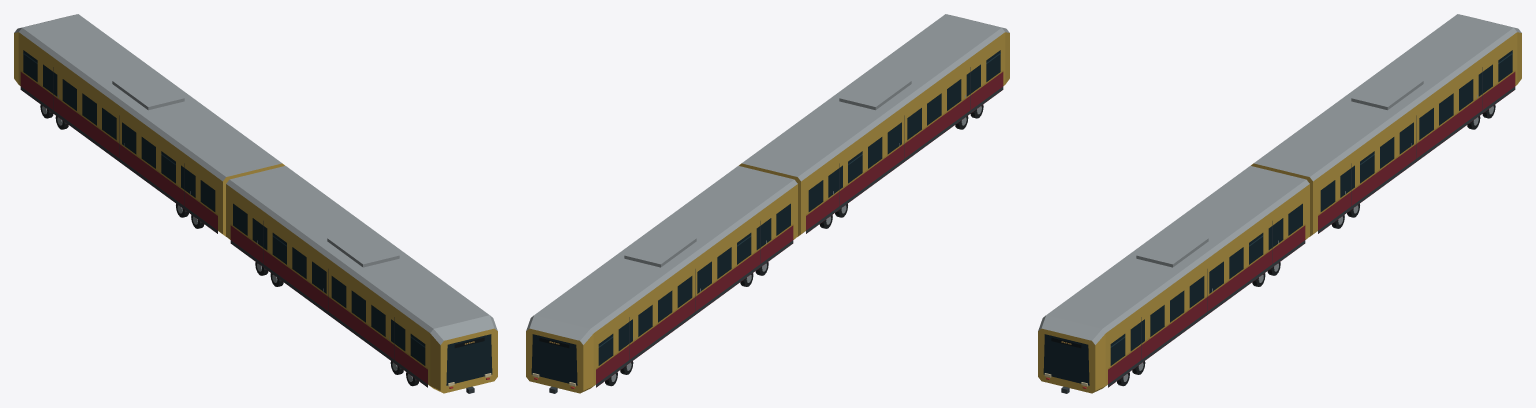
Rendered from sbahn-483.glb.
3 views of the same model, side by side, from view 1: azimuth 30°, elevation 25°; view 2: azimuth 150°, elevation 25°; view 3: azimuth 330°, elevation 25° (orthographic).
Parts seen in each view (by area): view 1: sbahn-483.segment-01.005, sbahn-483.segment-02.005; view 2: sbahn-483.segment-02.005, sbahn-483.segment-01.005; view 3: sbahn-483.segment-01.005, sbahn-483.segment-02.005.
Boxes of the visible parts, <box> form: sbahn-483.segment-01.005: <box>226,166,497,393</box>; sbahn-483.segment-02.005: <box>14,14,285,236</box>; sbahn-483.segment-02.005: <box>526,166,797,393</box>; sbahn-483.segment-01.005: <box>738,14,1009,236</box>; sbahn-483.segment-01.005: <box>1038,166,1309,393</box>; sbahn-483.segment-02.005: <box>1250,14,1521,236</box>.
Size of the model in its own units: 3.19 by 3.65 by 37.24.
